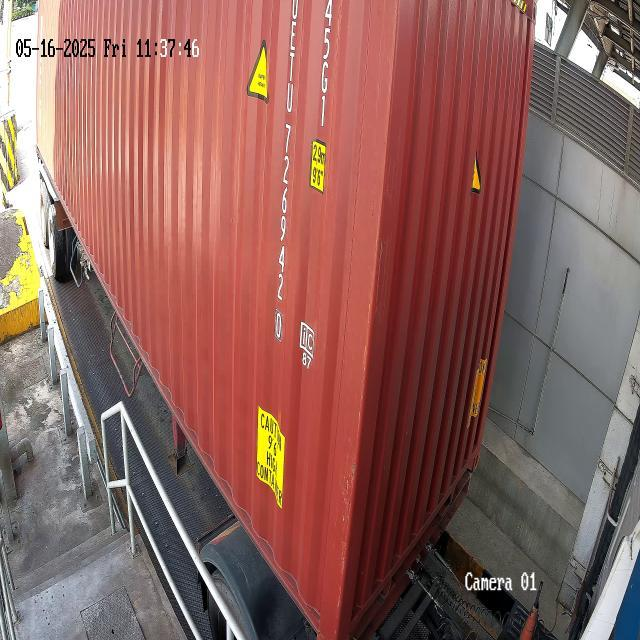ISO: (316, 0, 336, 129)
container_number: (266, 0, 304, 347)
